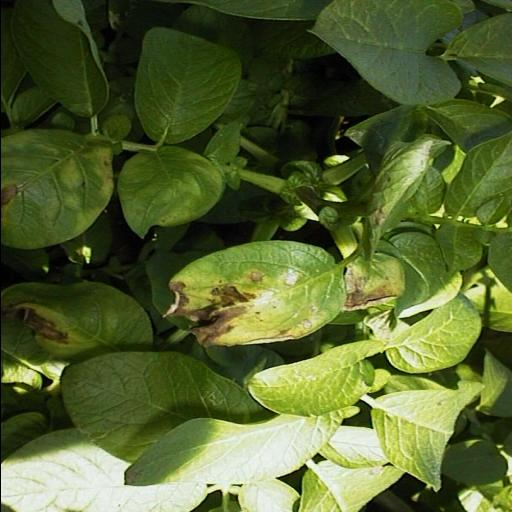Late Blight: (158, 238, 348, 346), (0, 273, 158, 371), (0, 126, 116, 252), (334, 246, 408, 320)
